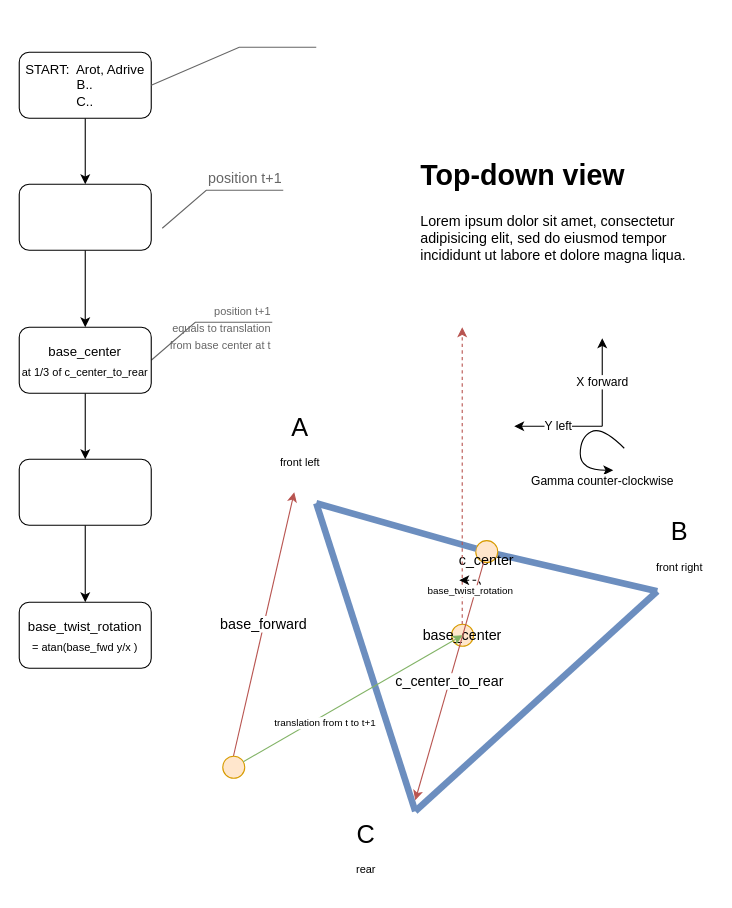
Image size: 732x908. Some labels were removed from this diagram. Each missing label, with the box of its shape:
A x,y B x,y C x,y: (18, 183, 151, 250)
base_forward = - c_center_to_rear: (18, 458, 151, 525)
converted to [rad] and [m]: (150, 18, 316, 85)
origin base center [0,0],0: (222, 755, 245, 778)
